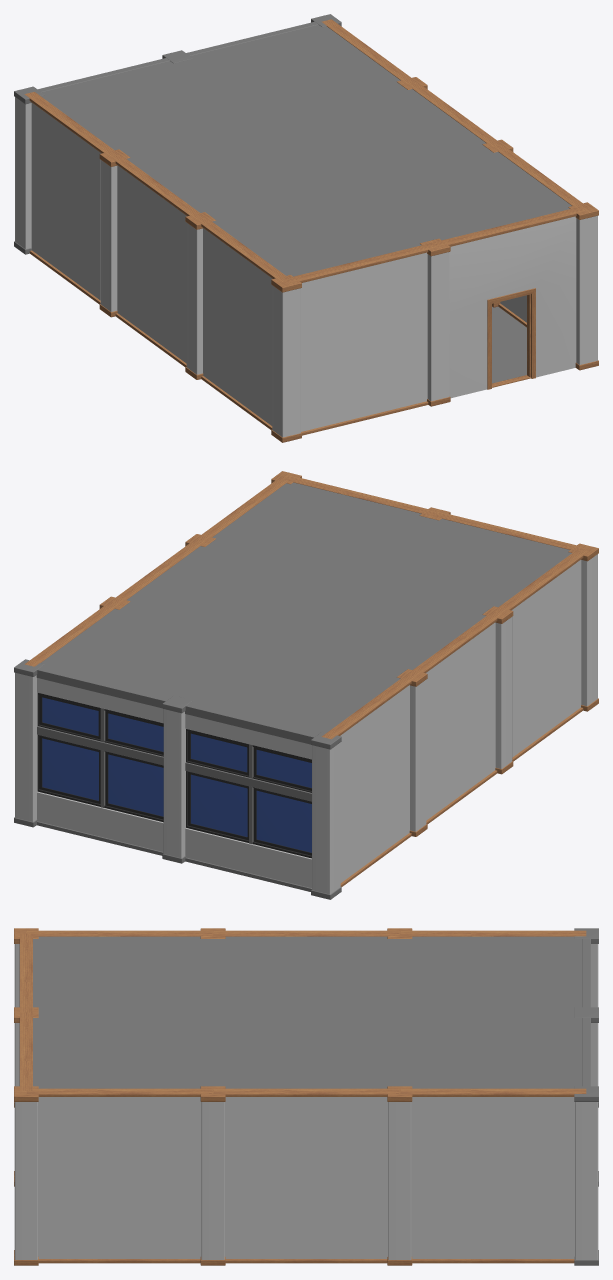
The model's file is SM_activityroom_01.fbx.
3 renders of one model, top to bottom at view 1: azimuth 30°, elevation 25°; view 2: azimuth 150°, elevation 25°; view 3: azimuth 270°, elevation 25°, orthographic. The views are drawn at different scales.
Visible parts, largest first — view 1: activityroom_01; view 2: activityroom_01; view 3: activityroom_01.
Part boxes in pixels (x1,y1,x2,y2): activityroom_01: [14, 14, 598, 442]; activityroom_01: [14, 471, 598, 899]; activityroom_01: [14, 928, 598, 1265].
Size of the model in its own units: 336 by 158 by 493.
